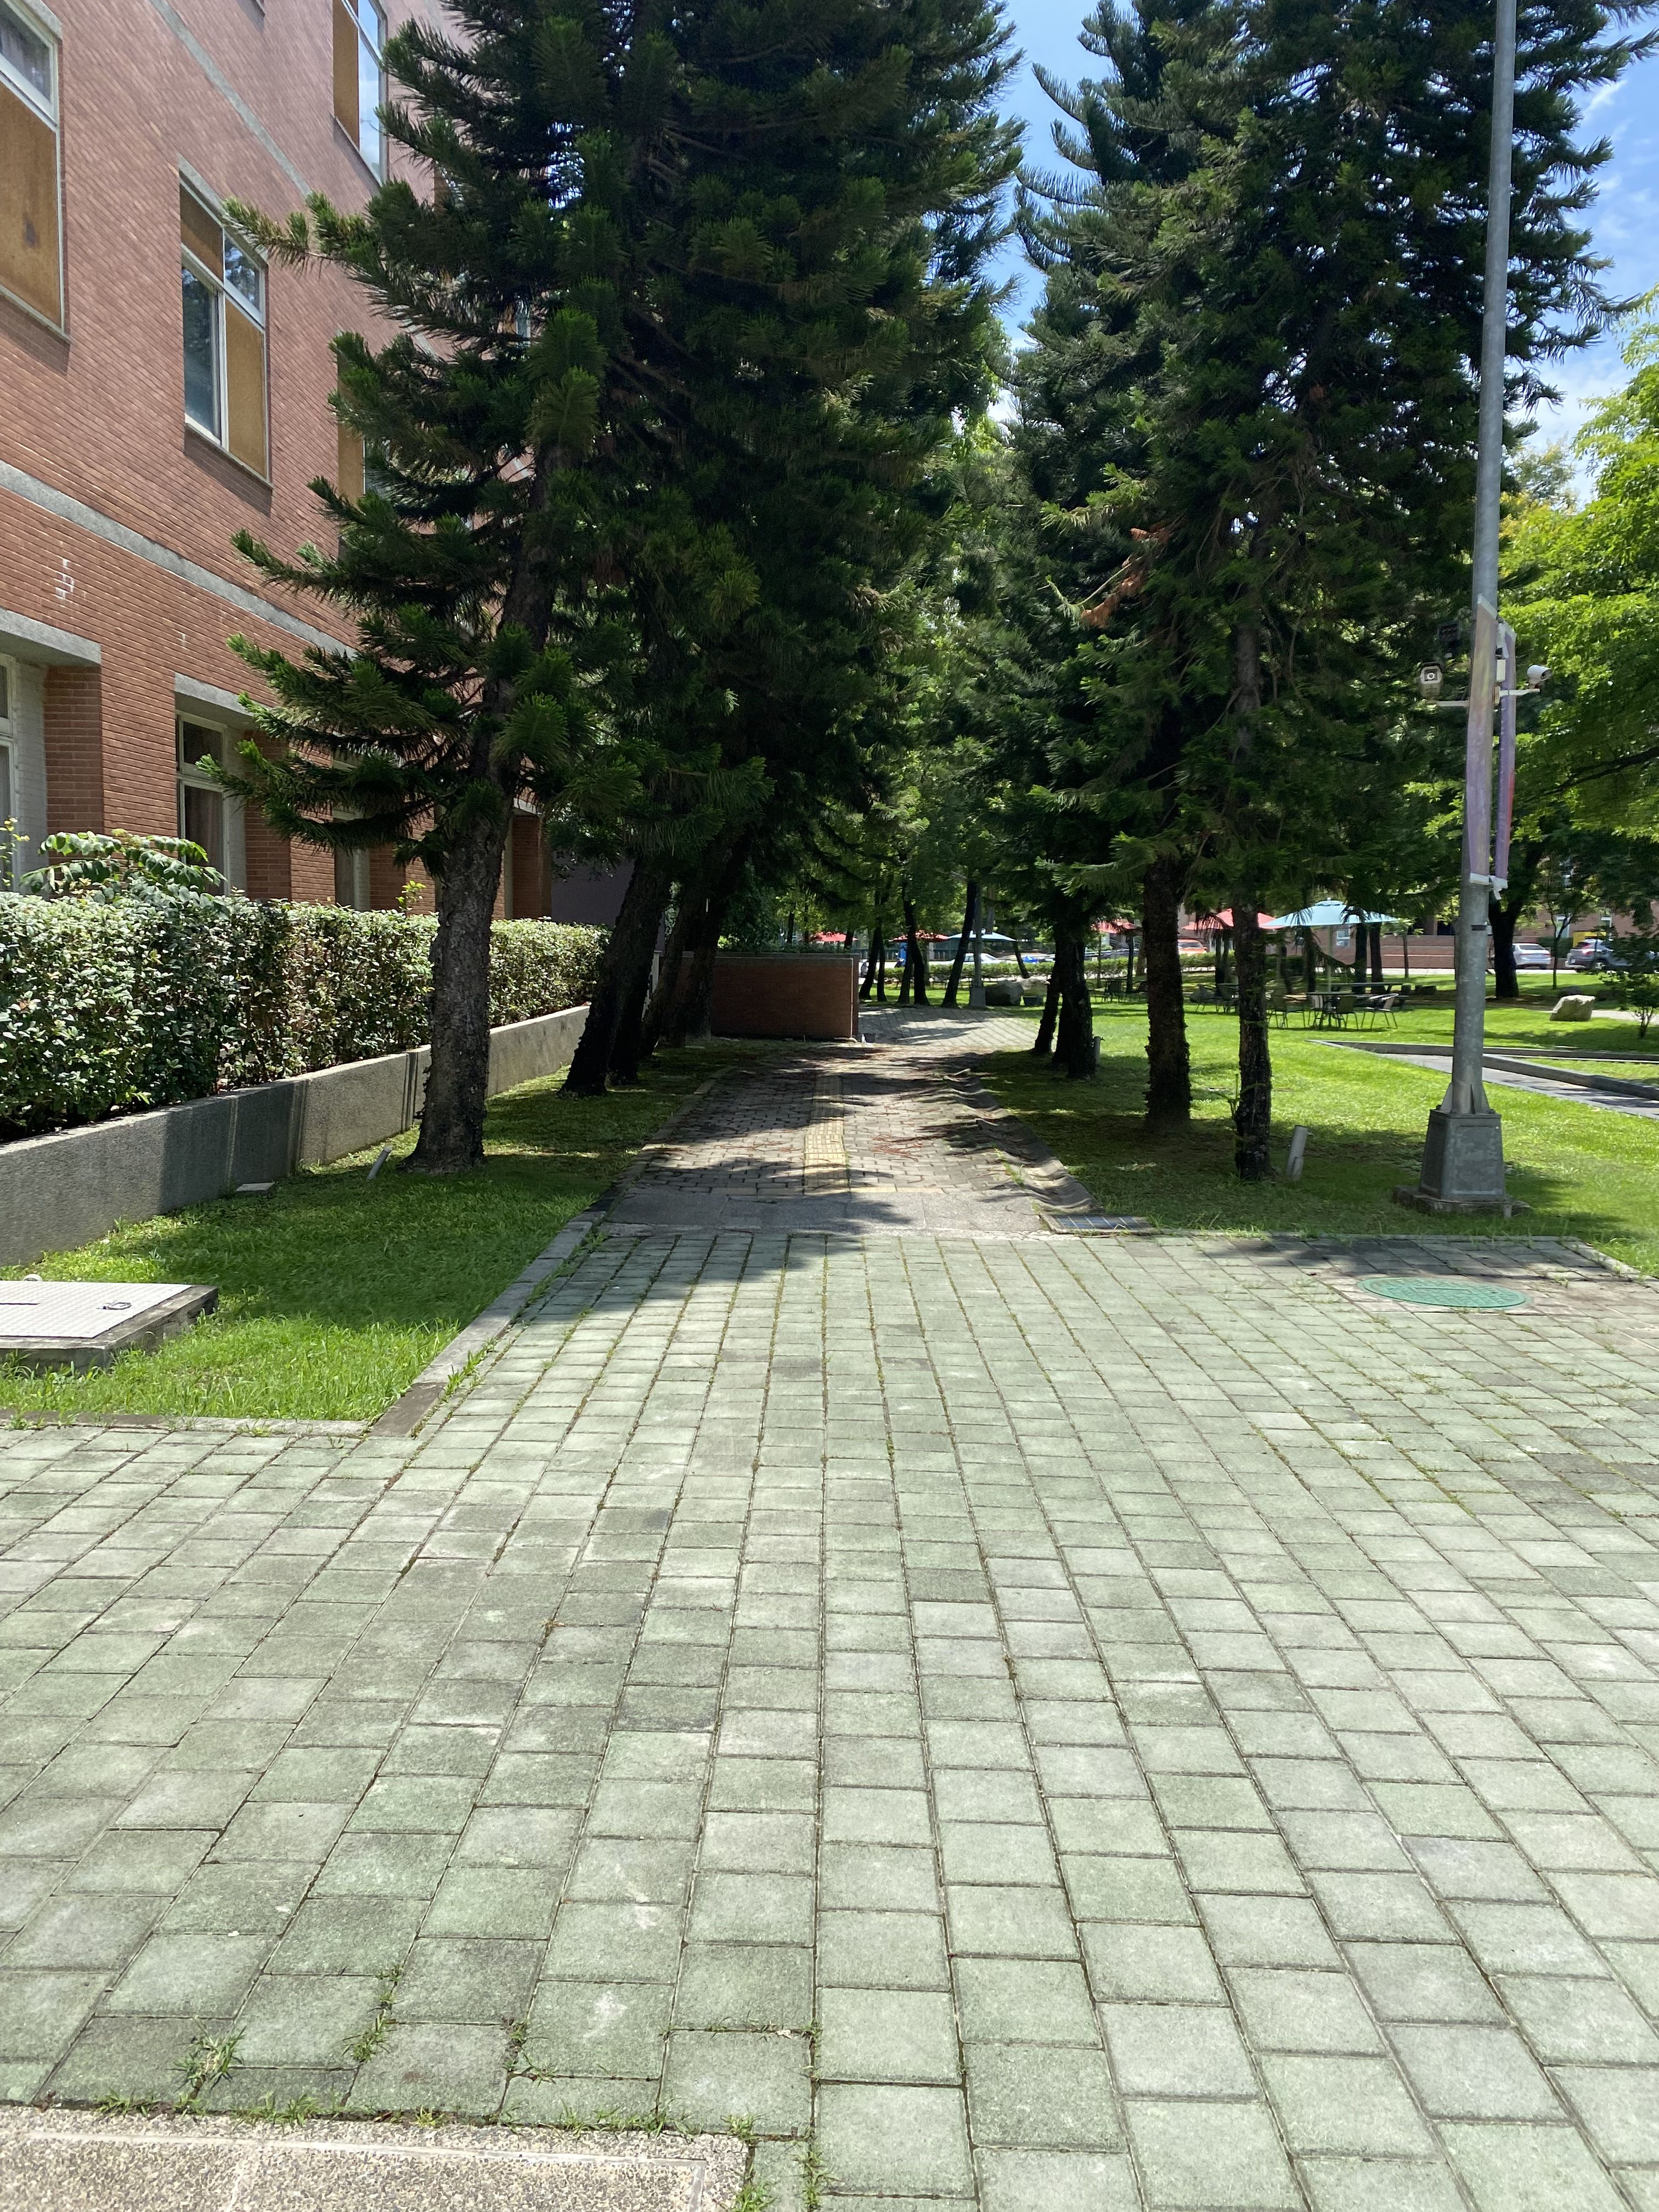0: (10, 1399, 667, 2047)
sidewalk: (465, 944, 1659, 2212)
